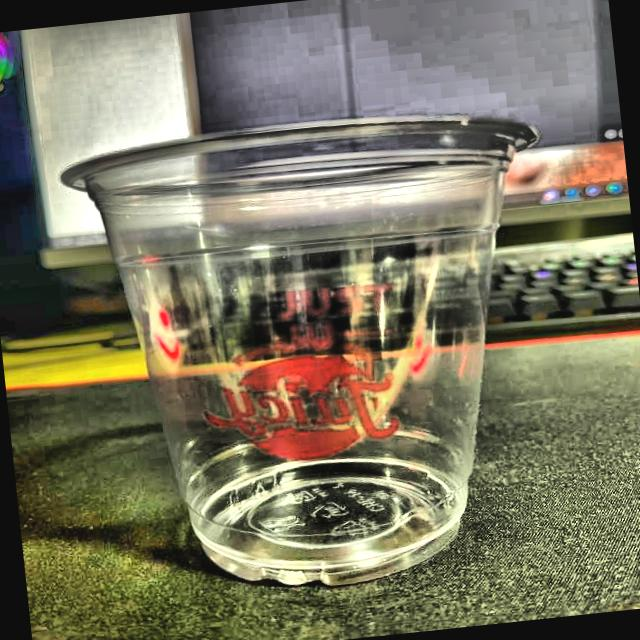plastic cup: (54, 95, 580, 612)
